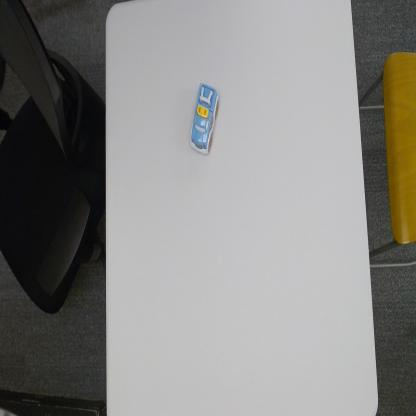Car: (190, 80, 221, 158)
